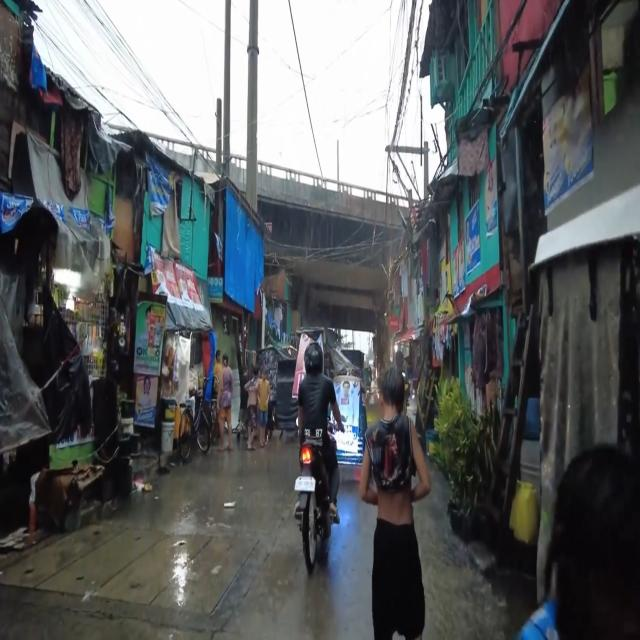full: (304, 340, 324, 374)
